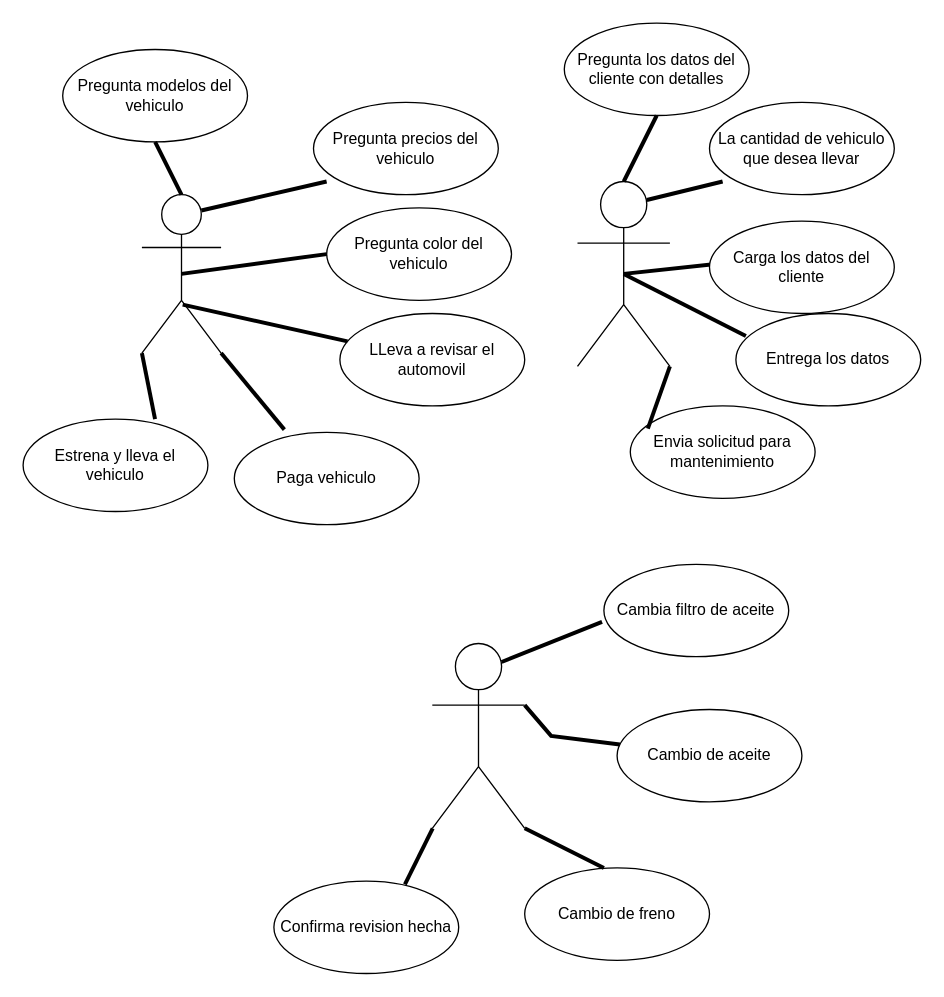
This 944x997 diagram has some shape labels left out. The centre of each missing label's shape, as x and y in pixels:
Cliente: (x=181, y=273)
Mecanico: (x=478, y=735)
Vendedor: (x=623, y=273)
